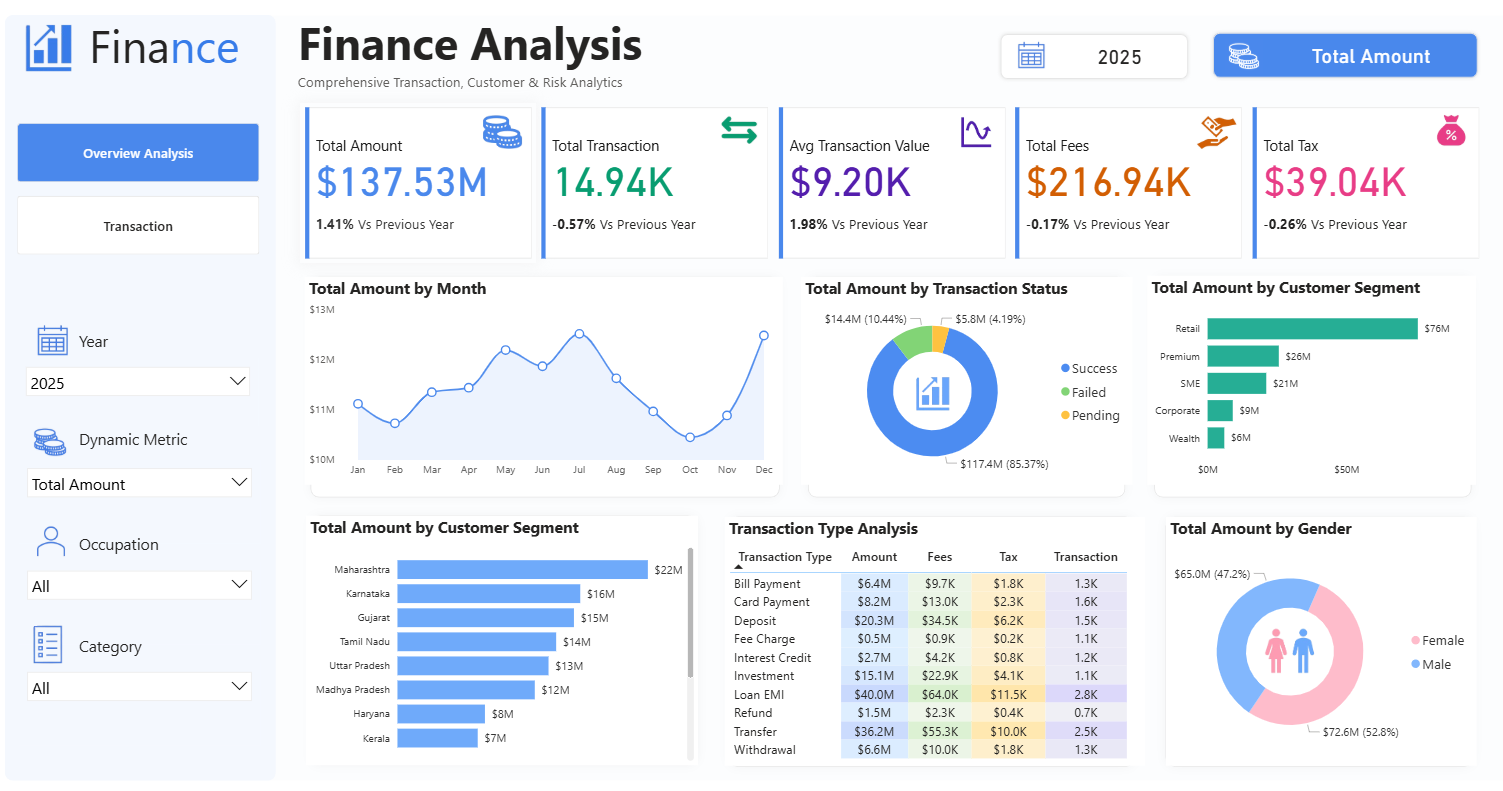

The dashboard page shown, as its layout file describes it:
{"tool":"powerbi","page":{"name":"Overview Analysis","canvas":[1800,950],"ordinal":0},"visuals":[{"type":"shape","box":[287.2,22.6,1513.4,910],"z":0},{"type":"shape","box":[9.7,16.1,322.7,916.4],"z":1000},{"type":"cardVisual","fields":{"Data":["finance_transactions.Total Amount"]},"box":[361.3,125.7,281.7,190],"z":2000},{"type":"slicer","fields":{"Values":["calander table.year"]},"box":[25.8,429.8,287.2,80.7],"z":3000},{"type":"cardVisual","fields":{"Data":["finance_transactions.Total Transaction"]},"box":[643,125.7,281.7,190],"z":4000},{"type":"cardVisual","fields":{"Data":["finance_transactions.Avg Transaction Value"]},"box":[924.7,125.7,281.7,190],"z":5000},{"type":"cardVisual","fields":{"Data":["finance_transactions.Total Fees"]},"box":[1206.3,125.7,281.7,190],"z":6000},{"type":"cardVisual","fields":{"Data":["finance_transactions.Total Tax"]},"box":[1488,125.7,281.7,190],"z":7000},{"type":"slicer","fields":{"Values":["Dynamic Metric.Dynamic Metric"]},"box":[26.2,550,287.8,99.7],"z":8000},{"type":"shape","box":[363,321.1,580.8,285.6],"z":9000},{"type":"areaChart","fields":{"Y":["finance_transactions.Total Fees"],"Category":["calander table.month"]},"box":[367.9,333.6,569,246.9],"z":10000},{"type":"shape","box":[955.2,321.1,400.1,285.6],"z":11000},{"type":"donutChart","title":"Total Amount by Transaction Status","fields":{"Y":["finance_transactions.Total Fees"],"Category":["finance_transactions.transaction_status"]},"box":[958.2,333.6,394.1,246.9],"z":12000},{"type":"shape","box":[1366.6,321.1,400.1,285.6],"z":13000},{"type":"clusteredBarChart","title":"Total Amount by Customer Segment","fields":{"Y":["finance_transactions.Total Fees"],"Category":["customers.customer_segment"]},"box":[1370.3,331.9,390.8,248.5],"z":14000},{"type":"shape","box":[363.3,606,483.3,320],"z":15000},{"type":"clusteredBarChart","title":"Total Amount by Customer Segment","fields":{"Y":["finance_transactions.Total Fees"],"Category":["customers.state"]},"box":[368.3,617.7,466.7,296.7],"z":16000},{"type":"shape","box":[860.1,606.7,506.9,320.5],"z":17000},{"type":"tableEx","title":"Transaction Type Analysis","fields":{"Values":["finance_transactions.transaction_type","finance_transactions.Total Amount","finance_transactions.Total Fees","finance_transactions.Total Tax","finance_transactions.Total Transaction"]},"box":[866.6,618.1,500.4,296],"z":18000},{"type":"shape","box":[1380.1,606.7,389.2,320.5],"z":19000},{"type":"donutChart","title":"Total Amount by Gender","fields":{"Y":["finance_transactions.Total Fees"],"Category":["customers.gender"]},"box":[1391.5,618.1,369.6,296],"z":20000},{"type":"slicer","fields":{"Values":["customers.occupation"]},"box":[26.2,672.6,287.8,98.1],"z":21000},{"type":"slicer","fields":{"Values":["finance_transactions.merchant_category"]},"box":[26.2,792,287.8,98.1],"z":22000},{"type":"pageNavigator","box":[25.8,150.1,288.8,156.5],"z":23000},{"type":"cardVisual","fields":{"Data":["finance_transactions.dashbord title"]},"box":[341.8,0,477.5,119.4],"z":24000},{"type":"textbox","box":[104.9,16.1,237.2,127.5],"z":25000},{"type":"image","box":[25.8,22.6,79.1,74.2],"z":26000},{"type":"textbox","box":[93.6,391.1,129.1,85.5],"z":27000},{"type":"textbox","box":[93.6,508.9,163,77.4],"z":28000},{"type":"image","box":[33.9,495.9,62.9,67.8],"z":29000},{"type":"textbox","box":[93.6,633.1,163,77.4],"z":30000},{"type":"textbox","box":[93.6,754.1,163,77.4],"z":31000},{"type":"image","box":[32.3,618.6,67.8,59.7],"z":32000},{"type":"image","box":[27.4,739.6,69.4,62.9],"z":33000},{"type":"shape","box":[1191.9,40.3,230.7,61.3],"z":34000},{"type":"card","fields":{"Values":["finance_transactions.Selected Year"]},"box":[1285.5,40.3,104.9,61.3],"z":35000},{"type":"image","box":[37.1,375.9,61.3,64.5],"z":36000},{"type":"image","box":[1204.8,40.3,54.9,58.1],"z":37000},{"type":"shape","box":[1444,38.7,322.7,61.3],"z":38000},{"type":"card","fields":{"Values":["finance_transactions.Selected Dynamic Metric"]},"box":[1534.4,38.7,203.3,61.3],"z":39000},{"type":"image","box":[1457,41.9,54.9,58.1],"z":40000},{"type":"image","box":[569.6,127.5,66.2,67.8],"z":41000},{"type":"image","box":[851.9,132.3,66.2,51.6],"z":42000},{"type":"image","box":[1137.5,132.3,58.1,58.1],"z":43000},{"type":"image","box":[1421.5,133.9,61.3,58.1],"z":44000},{"type":"image","box":[1702.2,129.1,58.1,58.1],"z":45000},{"type":"image","box":[1077.8,435.6,74.2,69.4],"z":46000},{"type":"image","box":[1502.1,734.1,75.8,92],"z":47000}]}

Visuals, with their boxes in screenshot pixels (x1, y1, x2, y2), scaled from the page's 1800x950 canvas onto the 1503x791 screenshot:
shape: <bbox>240, 19, 1502, 777</bbox>
shape: <bbox>8, 13, 278, 776</bbox>
cardVisual - finance_transactions.Total Amount: <bbox>302, 105, 537, 263</bbox>
slicer - calander table.year: <bbox>22, 358, 261, 425</bbox>
cardVisual - finance_transactions.Total Transaction: <bbox>537, 105, 772, 263</bbox>
cardVisual - finance_transactions.Avg Transaction Value: <bbox>772, 105, 1007, 263</bbox>
cardVisual - finance_transactions.Total Fees: <bbox>1007, 105, 1242, 263</bbox>
cardVisual - finance_transactions.Total Tax: <bbox>1242, 105, 1478, 263</bbox>
slicer - Dynamic Metric.Dynamic Metric: <bbox>22, 458, 262, 541</bbox>
shape: <bbox>303, 267, 788, 505</bbox>
areaChart - finance_transactions.Total Fees x calander table.month: <bbox>307, 278, 782, 483</bbox>
shape: <bbox>798, 267, 1132, 505</bbox>
"Total Amount by Transaction Status" donutChart: <bbox>800, 278, 1129, 483</bbox>
shape: <bbox>1141, 267, 1475, 505</bbox>
"Total Amount by Customer Segment" clusteredBarChart: <bbox>1144, 276, 1471, 483</bbox>
shape: <bbox>303, 505, 707, 771</bbox>
"Total Amount by Customer Segment" clusteredBarChart: <bbox>308, 514, 697, 761</bbox>
shape: <bbox>718, 505, 1141, 772</bbox>
"Transaction Type Analysis" tableEx: <bbox>724, 515, 1141, 761</bbox>
shape: <bbox>1152, 505, 1477, 772</bbox>
"Total Amount by Gender" donutChart: <bbox>1162, 515, 1471, 761</bbox>
slicer - customers.occupation: <bbox>22, 560, 262, 642</bbox>
slicer - finance_transactions.merchant_category: <bbox>22, 659, 262, 741</bbox>
pageNavigator: <bbox>22, 125, 263, 255</bbox>
cardVisual - finance_transactions.dashbord title: <bbox>285, 0, 684, 99</bbox>
textbox: <bbox>88, 13, 286, 120</bbox>
image: <bbox>22, 19, 88, 81</bbox>
textbox: <bbox>78, 326, 186, 397</bbox>
textbox: <bbox>78, 424, 214, 488</bbox>
image: <bbox>28, 413, 81, 469</bbox>
textbox: <bbox>78, 527, 214, 592</bbox>
textbox: <bbox>78, 628, 214, 692</bbox>
image: <bbox>27, 515, 84, 565</bbox>
image: <bbox>23, 616, 81, 668</bbox>
shape: <bbox>995, 34, 1188, 85</bbox>
card - finance_transactions.Selected Year: <bbox>1073, 34, 1161, 85</bbox>
image: <bbox>31, 313, 82, 367</bbox>
image: <bbox>1006, 34, 1052, 82</bbox>
shape: <bbox>1206, 32, 1475, 83</bbox>
card - finance_transactions.Selected Dynamic Metric: <bbox>1281, 32, 1451, 83</bbox>
image: <bbox>1217, 35, 1262, 83</bbox>
image: <bbox>476, 106, 531, 163</bbox>
image: <bbox>711, 110, 767, 153</bbox>
image: <bbox>950, 110, 998, 159</bbox>
image: <bbox>1187, 111, 1238, 160</bbox>
image: <bbox>1421, 107, 1470, 156</bbox>
image: <bbox>900, 363, 962, 420</bbox>
image: <bbox>1254, 611, 1318, 688</bbox>
